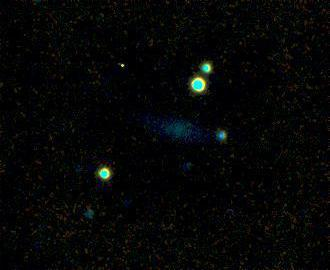star: (109, 52, 139, 82)
